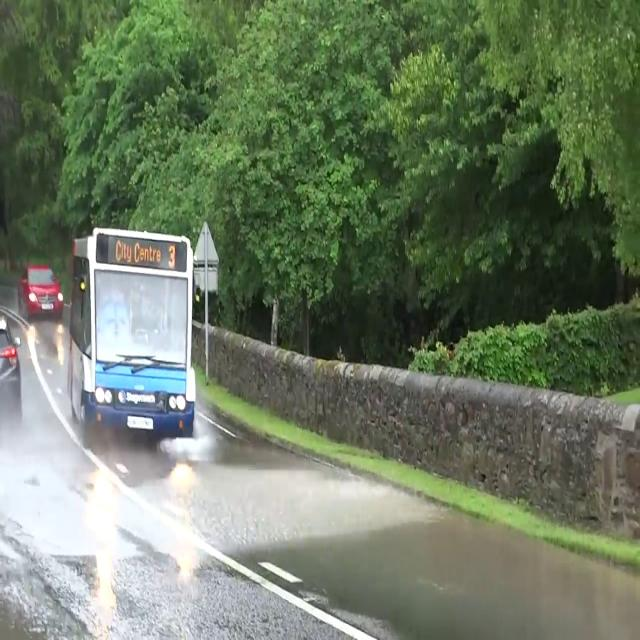license-plate-annotation: (126, 415, 154, 430)
